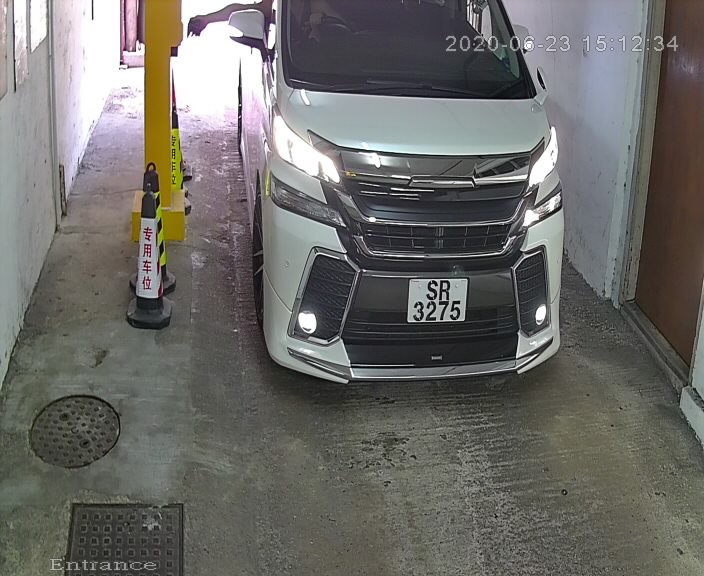privatecar: (214, 1, 579, 416)
